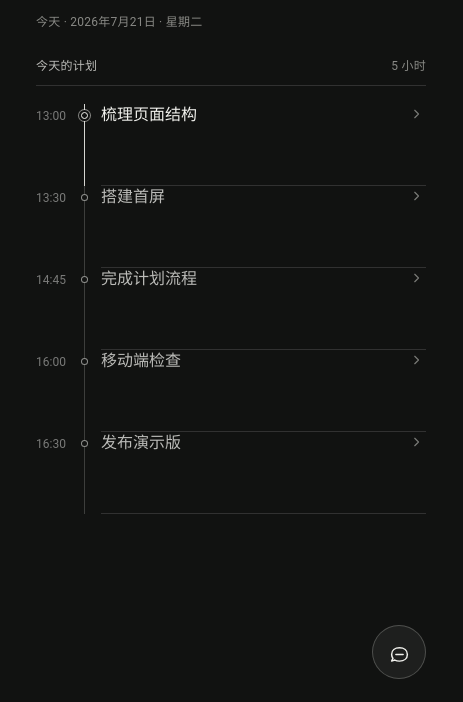
production Hermes MVP interface › validates empty goal before requesting Hermes
Click the button named "打开对话" at [399, 652], box top-left (372, 625), bottom-right (426, 679)
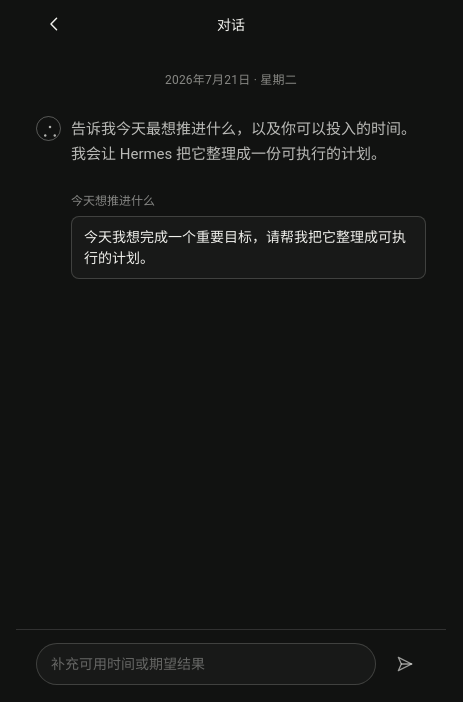
Clear the text box labelled "今天想推进什么" at [248, 247], box top-left (71, 216), bottom-right (426, 278)
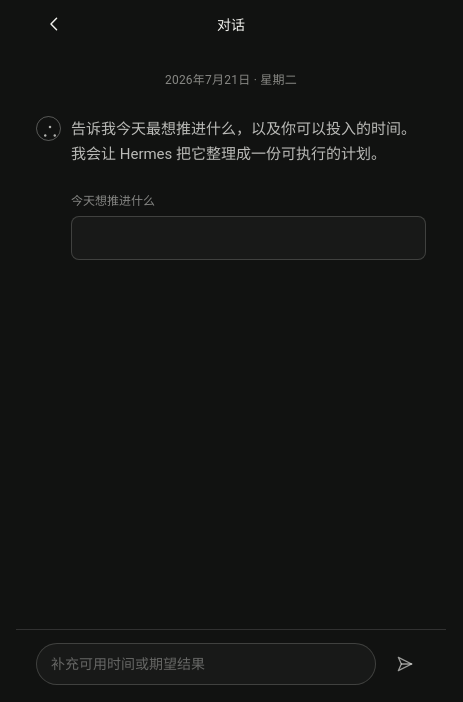
Type "有可用时间" into the text box named "补充你的安排" at [206, 664], box top-left (36, 643), bottom-right (376, 685)
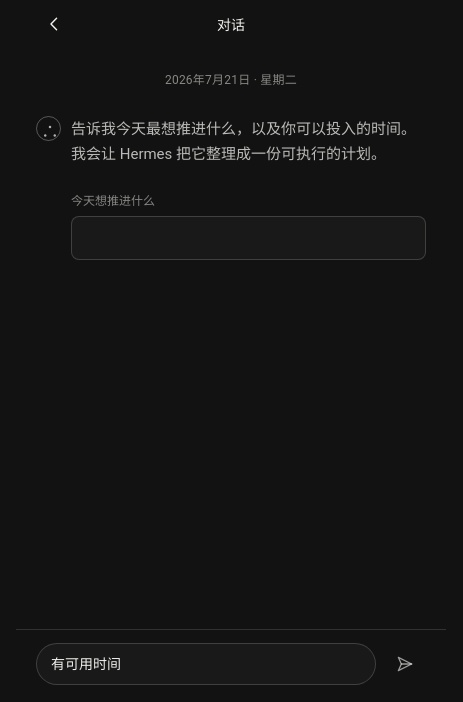
Click the button named "发送" at [405, 664], box top-left (384, 643), bottom-right (426, 685)
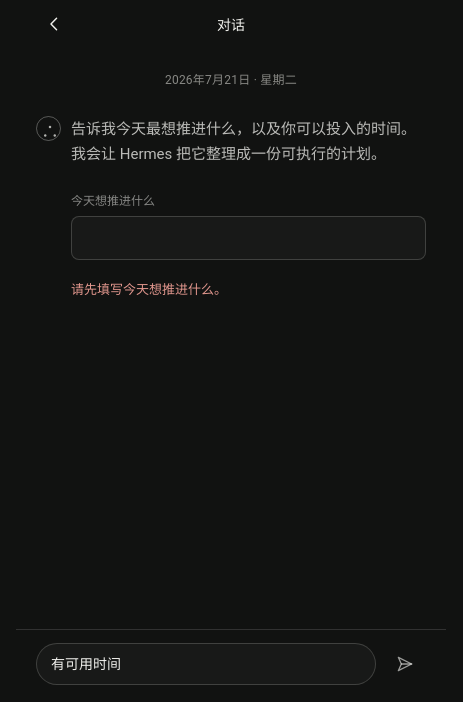
Expected: the message reads "请先填写今天想推进什么。", top-left (71, 282), bottom-right (227, 296)
